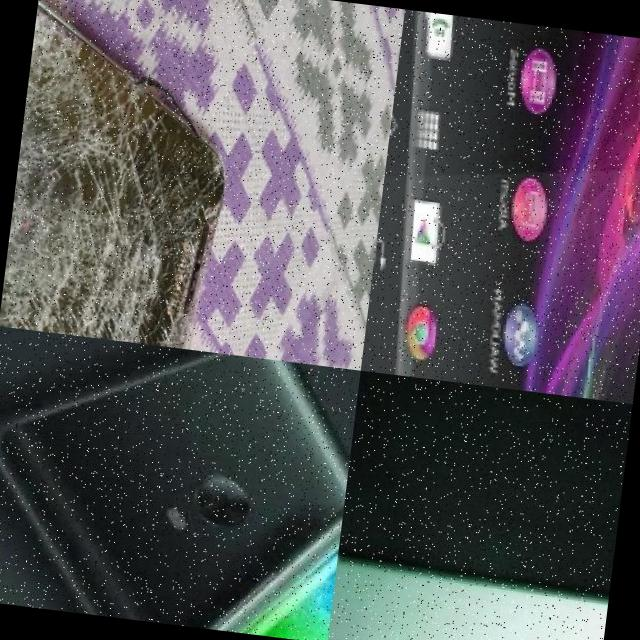screen crack: (0, 0, 265, 352)
